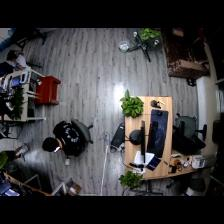normal: (39, 122, 87, 167), (3, 51, 32, 71)
